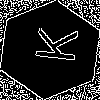K: (25, 25, 78, 64)
